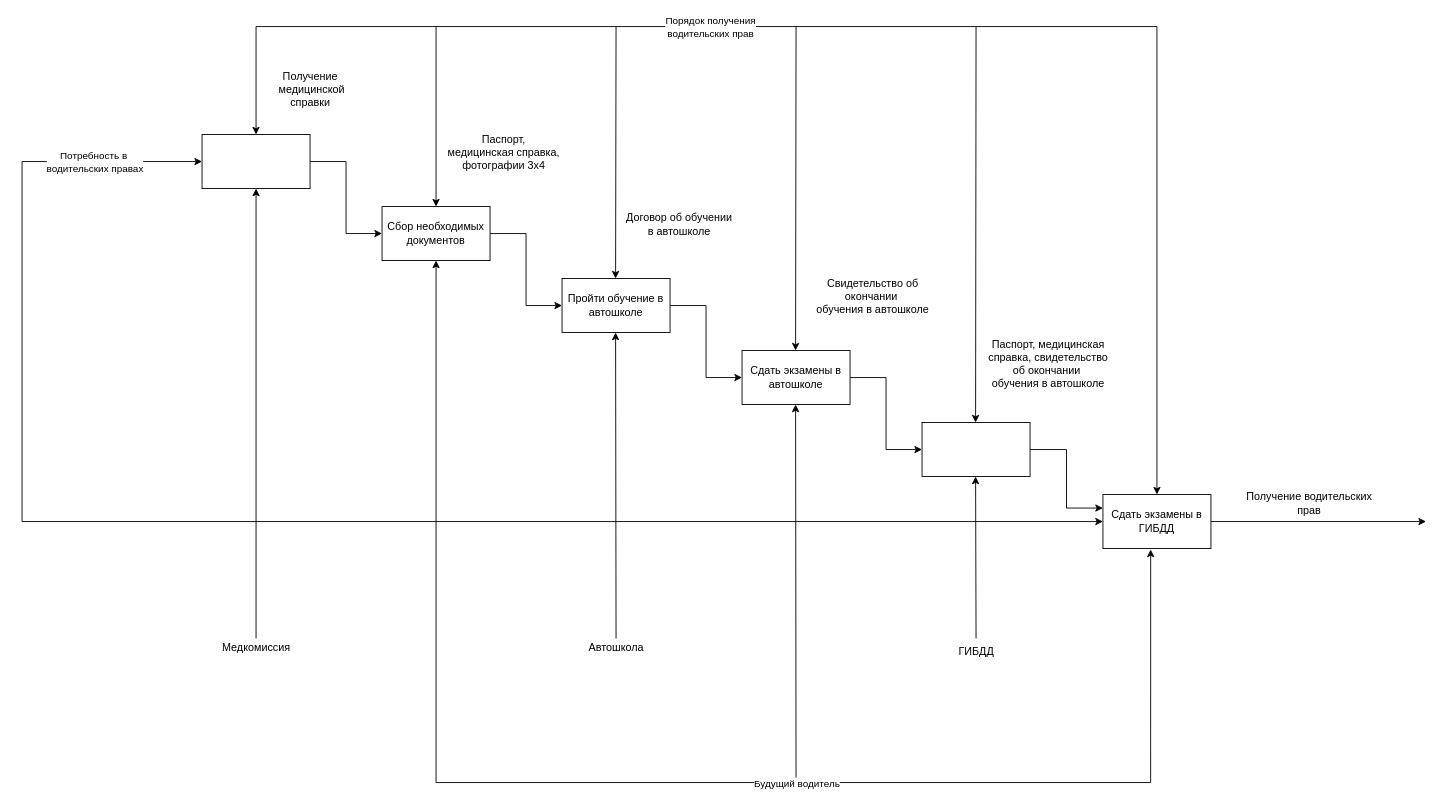
Image size: 1449x806. Some labels were removed from this diagram. Each missing label, with the centre of its shape:
Подать документы в ГИБДД: (975,449)
Пройти медицинский осмотр: (255,161)
